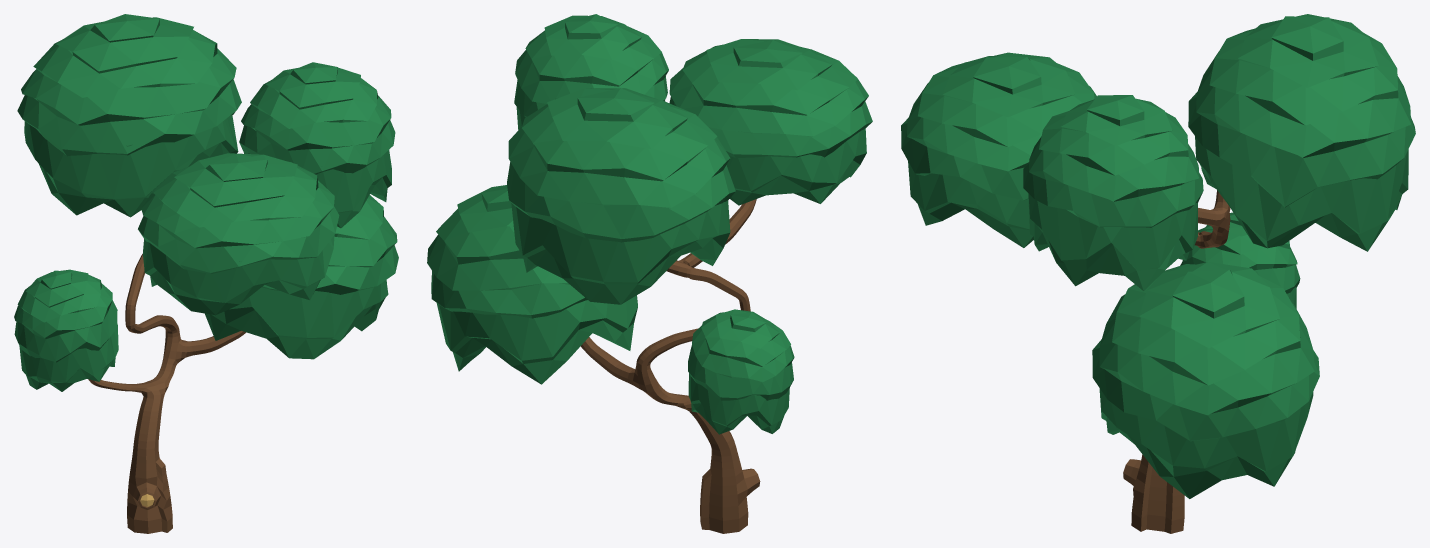
The model's file is arbol.fbx.
The picture shows the model from 3 angles, left to right: view 1: azimuth 30°, elevation 25°; view 2: azimuth 150°, elevation 25°; view 3: azimuth 270°, elevation 25°; orthographic projection. The views are drawn at different scales.
Parts seen in each view (by area): view 1: Icosphere, Cube; view 2: Icosphere, Cube; view 3: Icosphere, Cube.
Part boxes in pixels (box(x1,y1,x2,y2)): Icosphere: box(14, 14, 398, 391); Cube: box(88, 254, 245, 533); Icosphere: box(427, 14, 872, 434); Cube: box(580, 199, 760, 533); Icosphere: box(901, 14, 1415, 498); Cube: box(1123, 190, 1230, 533).
Size of the model in its own units: 1469 by 1794 by 1603.
